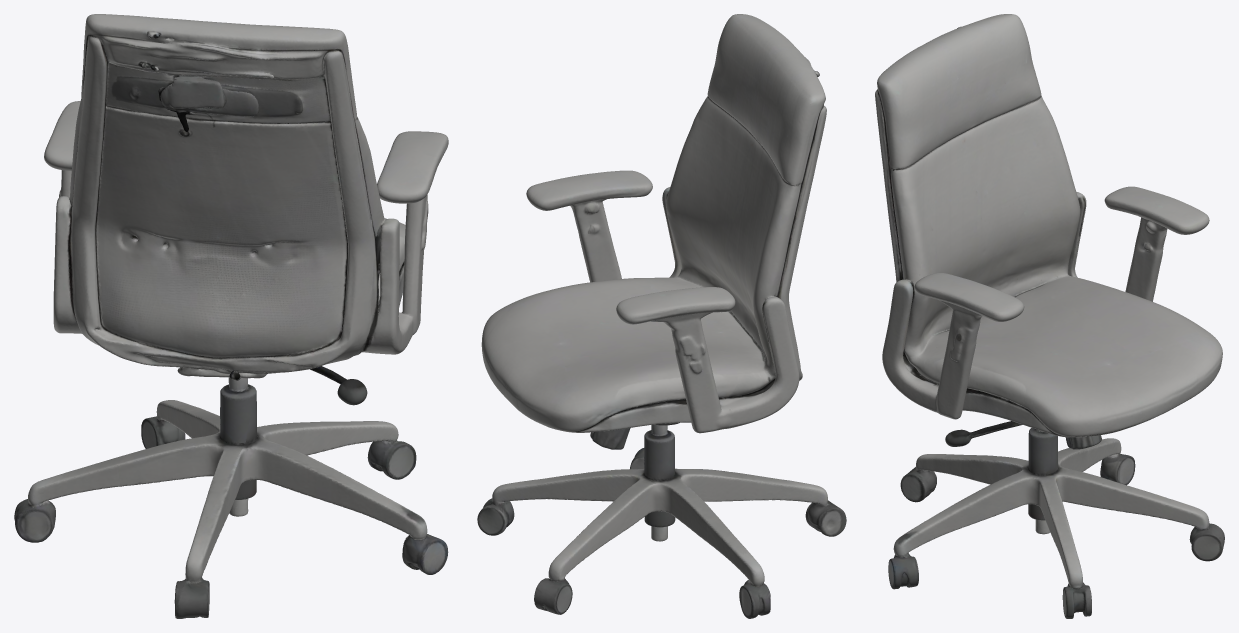
File: modern_office_chair_padded_21.glb
3 views of the same model, side by side, from view 1: azimuth 30°, elevation 25°; view 2: azimuth 150°, elevation 25°; view 3: azimuth 270°, elevation 25° (orthographic). The views are drawn at different scales.
Visible parts, largest first — view 1: tripo_node_4369887f-aaa9-410a-8a79-5a8227f4ebe4; view 2: tripo_node_4369887f-aaa9-410a-8a79-5a8227f4ebe4; view 3: tripo_node_4369887f-aaa9-410a-8a79-5a8227f4ebe4.
Boxes of the visible parts, box(x1,y1,x2,y2) form: tripo_node_4369887f-aaa9-410a-8a79-5a8227f4ebe4: box(14, 14, 448, 618); tripo_node_4369887f-aaa9-410a-8a79-5a8227f4ebe4: box(477, 14, 846, 618); tripo_node_4369887f-aaa9-410a-8a79-5a8227f4ebe4: box(875, 14, 1224, 618).
Bounding box in the file's own units: 0.6737 × 1 × 0.6737.
1 material, 1 textured.
